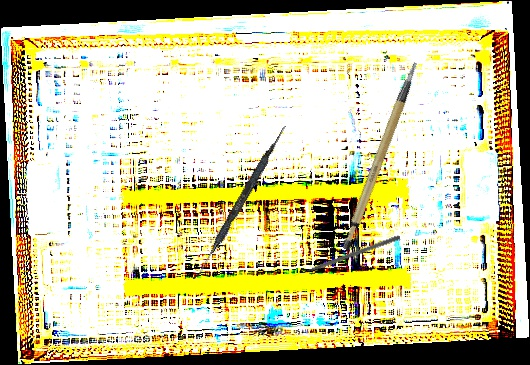Pusher: (292, 233, 401, 279)
Scalpel Handle: (318, 61, 447, 253)
Spatula Surgical: (192, 122, 288, 284)
